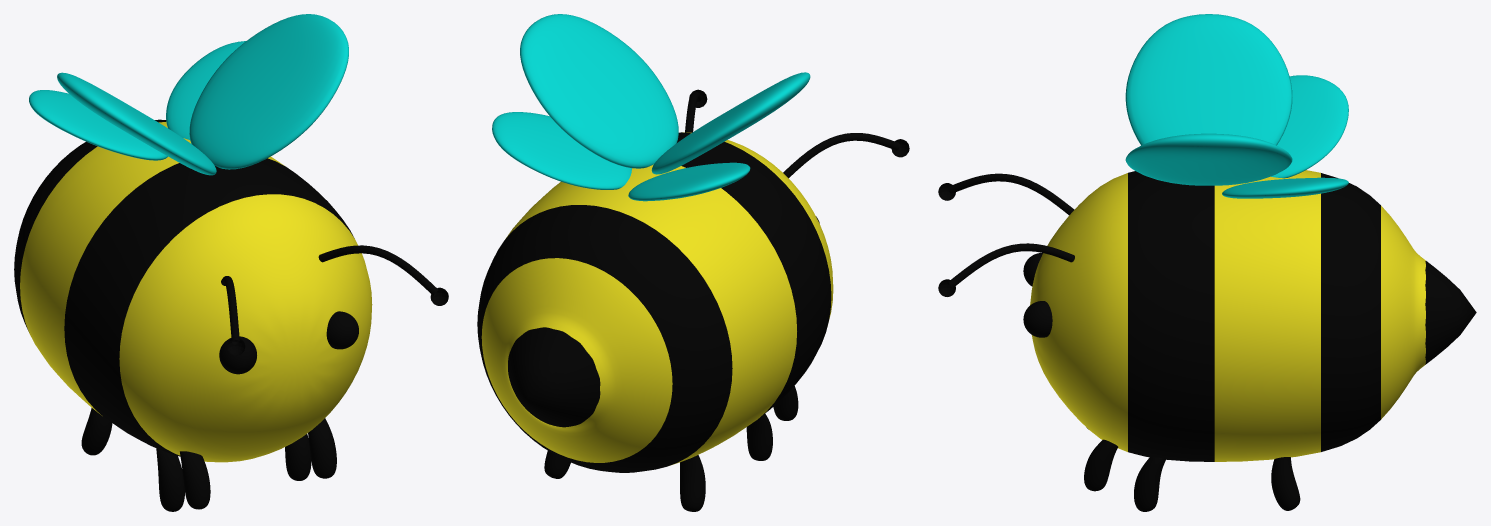
File: bee.fbx
3 views of the same model, side by side, from view 1: azimuth 30°, elevation 25°; view 2: azimuth 150°, elevation 25°; view 3: azimuth 270°, elevation 25° (orthographic). The views are drawn at different scales.
Visible parts, largest first — view 1: Sphere.005; view 2: Sphere.005; view 3: Sphere.005.
Boxes of the visible parts, box(x1,y1,x2,y2) form: Sphere.005: box(14, 14, 448, 511); Sphere.005: box(477, 14, 909, 511); Sphere.005: box(938, 14, 1476, 511).
Size of the model in its own units: 18.87 by 27.77 by 33.42.
